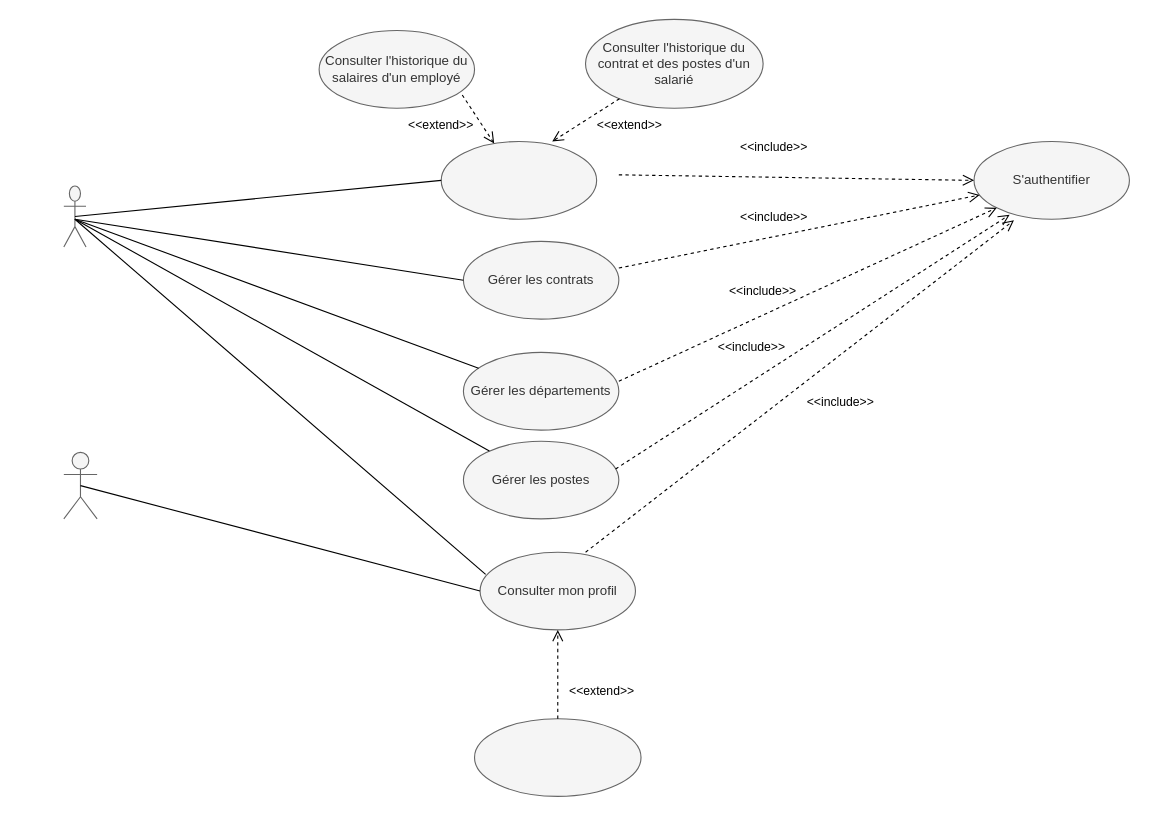
Image size: 1149x816. Some labels were removed from this diagram. The centre of each missing label's shape, as x and y in pixels:
Employé: (80,485)
Gérer les employées: (518,179)
Modifier mes informations personnelles: (557,757)
Ressource Humaine: (74,216)
